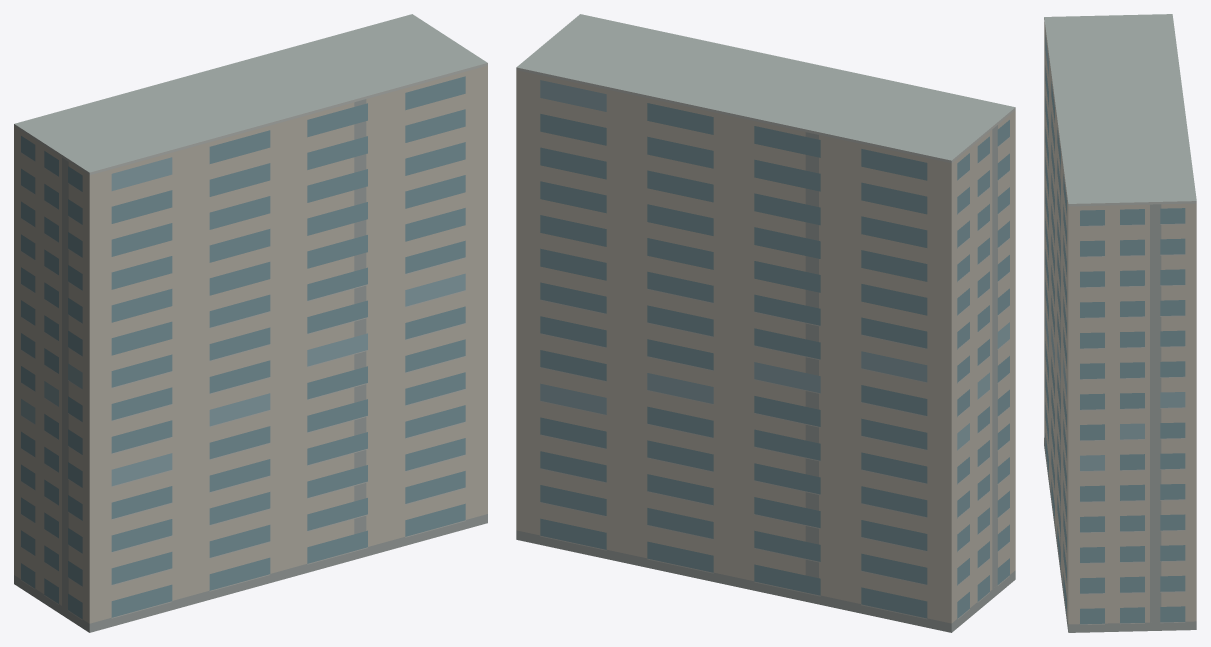
Rendered from residential-c01e3bf8-2e2a-4bef-a08a-0ef2e359d8c0.glb.
3 renders of one model, left to right at view 1: azimuth 30°, elevation 25°; view 2: azimuth 150°, elevation 25°; view 3: azimuth 270°, elevation 25°, orthographic. The views are drawn at different scales.
Parts seen in each view (by area): view 1: residential-c01e3bf8-2e2a-4bef-a08a-0ef2e359d8c0.tmp; view 2: residential-c01e3bf8-2e2a-4bef-a08a-0ef2e359d8c0.tmp; view 3: residential-c01e3bf8-2e2a-4bef-a08a-0ef2e359d8c0.tmp.
Boxes of the visible parts, bbox=[...] form: residential-c01e3bf8-2e2a-4bef-a08a-0ef2e359d8c0.tmp: bbox=[14, 14, 487, 632]; residential-c01e3bf8-2e2a-4bef-a08a-0ef2e359d8c0.tmp: bbox=[516, 14, 1015, 632]; residential-c01e3bf8-2e2a-4bef-a08a-0ef2e359d8c0.tmp: bbox=[1044, 14, 1196, 632].
Size of the model in its own units: 40.57 by 42.7 by 13.78.
